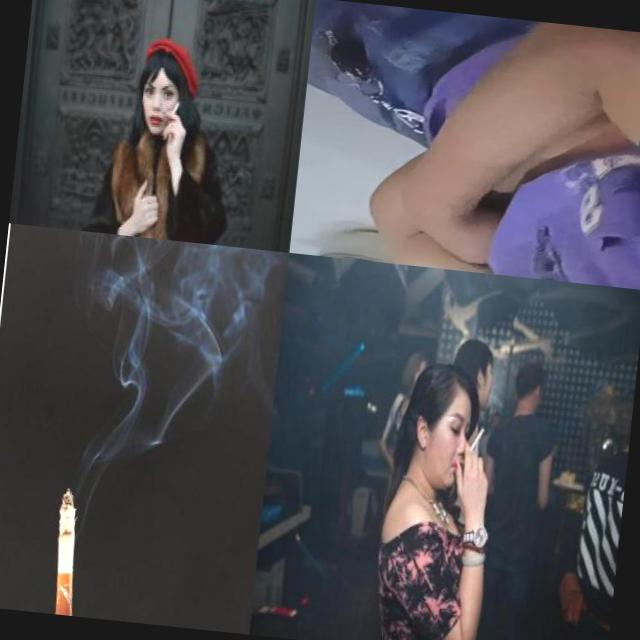smoke: (49, 486, 85, 616), (468, 424, 486, 454), (170, 100, 182, 116)
